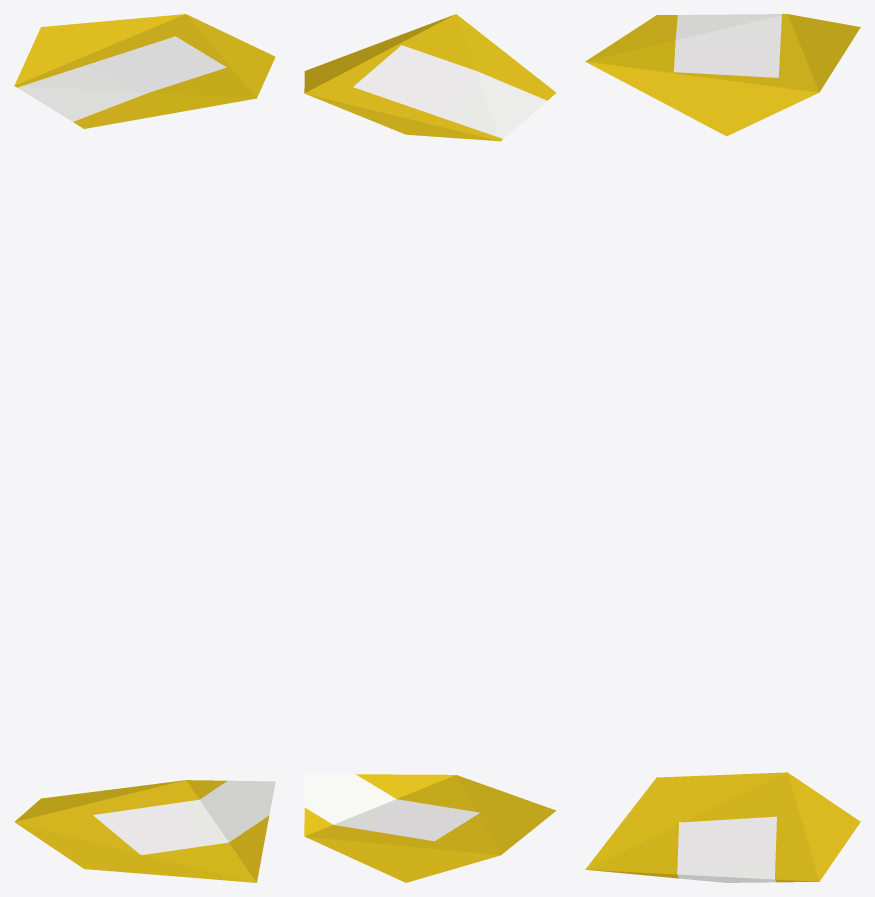
Rendered from mp-0252-geode.glb.
3 views of the same model, side by side, from view 1: azimuth 30°, elevation 25°; view 2: azimuth 150°, elevation 25°; view 3: azimuth 270°, elevation 25° (orthographic). The views are drawn at different scales.
Parts seen in each view (by area): view 1: Node; view 2: Node; view 3: Node.
Part boxes in pixels (x1,y1,x2,y2): Node: (14,14,275,882); Node: (304,14,556,882); Node: (585,14,860,882).
Size of the model in its own units: 0.1103 by 0.3566 by 0.1103.
Materials: 1 (1 with a texture image).
